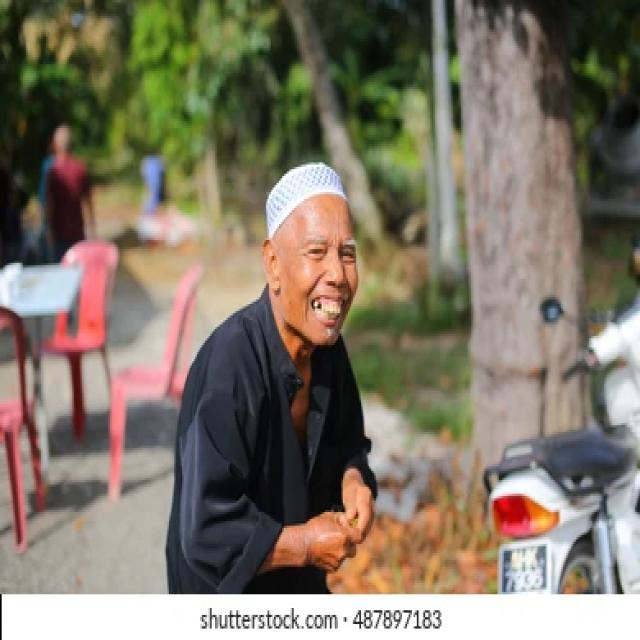Person: (160, 142, 387, 595)
